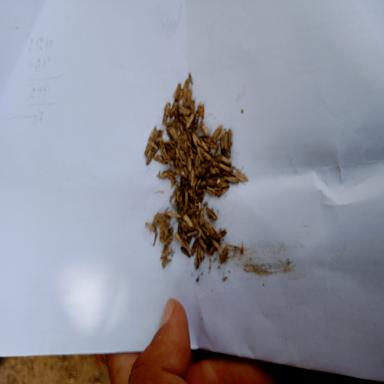pbw: (152, 130, 163, 154), (203, 216, 215, 236), (219, 244, 230, 265), (162, 101, 170, 126), (185, 112, 196, 130), (162, 234, 173, 252), (183, 76, 190, 104), (182, 214, 195, 229), (205, 204, 217, 220), (174, 82, 183, 103), (175, 233, 188, 247), (156, 168, 174, 178), (168, 125, 178, 141), (188, 168, 196, 187), (234, 172, 249, 182), (163, 211, 181, 219), (160, 247, 172, 259), (202, 148, 212, 162), (198, 236, 208, 250), (192, 235, 199, 255), (216, 153, 230, 163), (177, 106, 191, 116), (169, 102, 177, 119), (194, 254, 203, 269), (196, 102, 204, 118), (201, 122, 209, 138), (197, 244, 204, 262), (198, 145, 204, 165), (191, 215, 199, 230), (212, 238, 221, 251), (153, 154, 166, 163), (200, 139, 209, 152), (224, 176, 240, 183), (218, 164, 234, 171), (186, 230, 200, 238), (144, 222, 156, 231), (198, 208, 204, 226), (192, 133, 200, 146), (216, 229, 226, 239), (188, 142, 193, 159), (201, 229, 208, 241), (207, 179, 217, 187), (187, 156, 192, 171), (216, 182, 228, 188), (146, 150, 151, 164), (195, 155, 200, 168), (208, 248, 216, 256), (198, 180, 206, 188), (229, 129, 232, 147)
